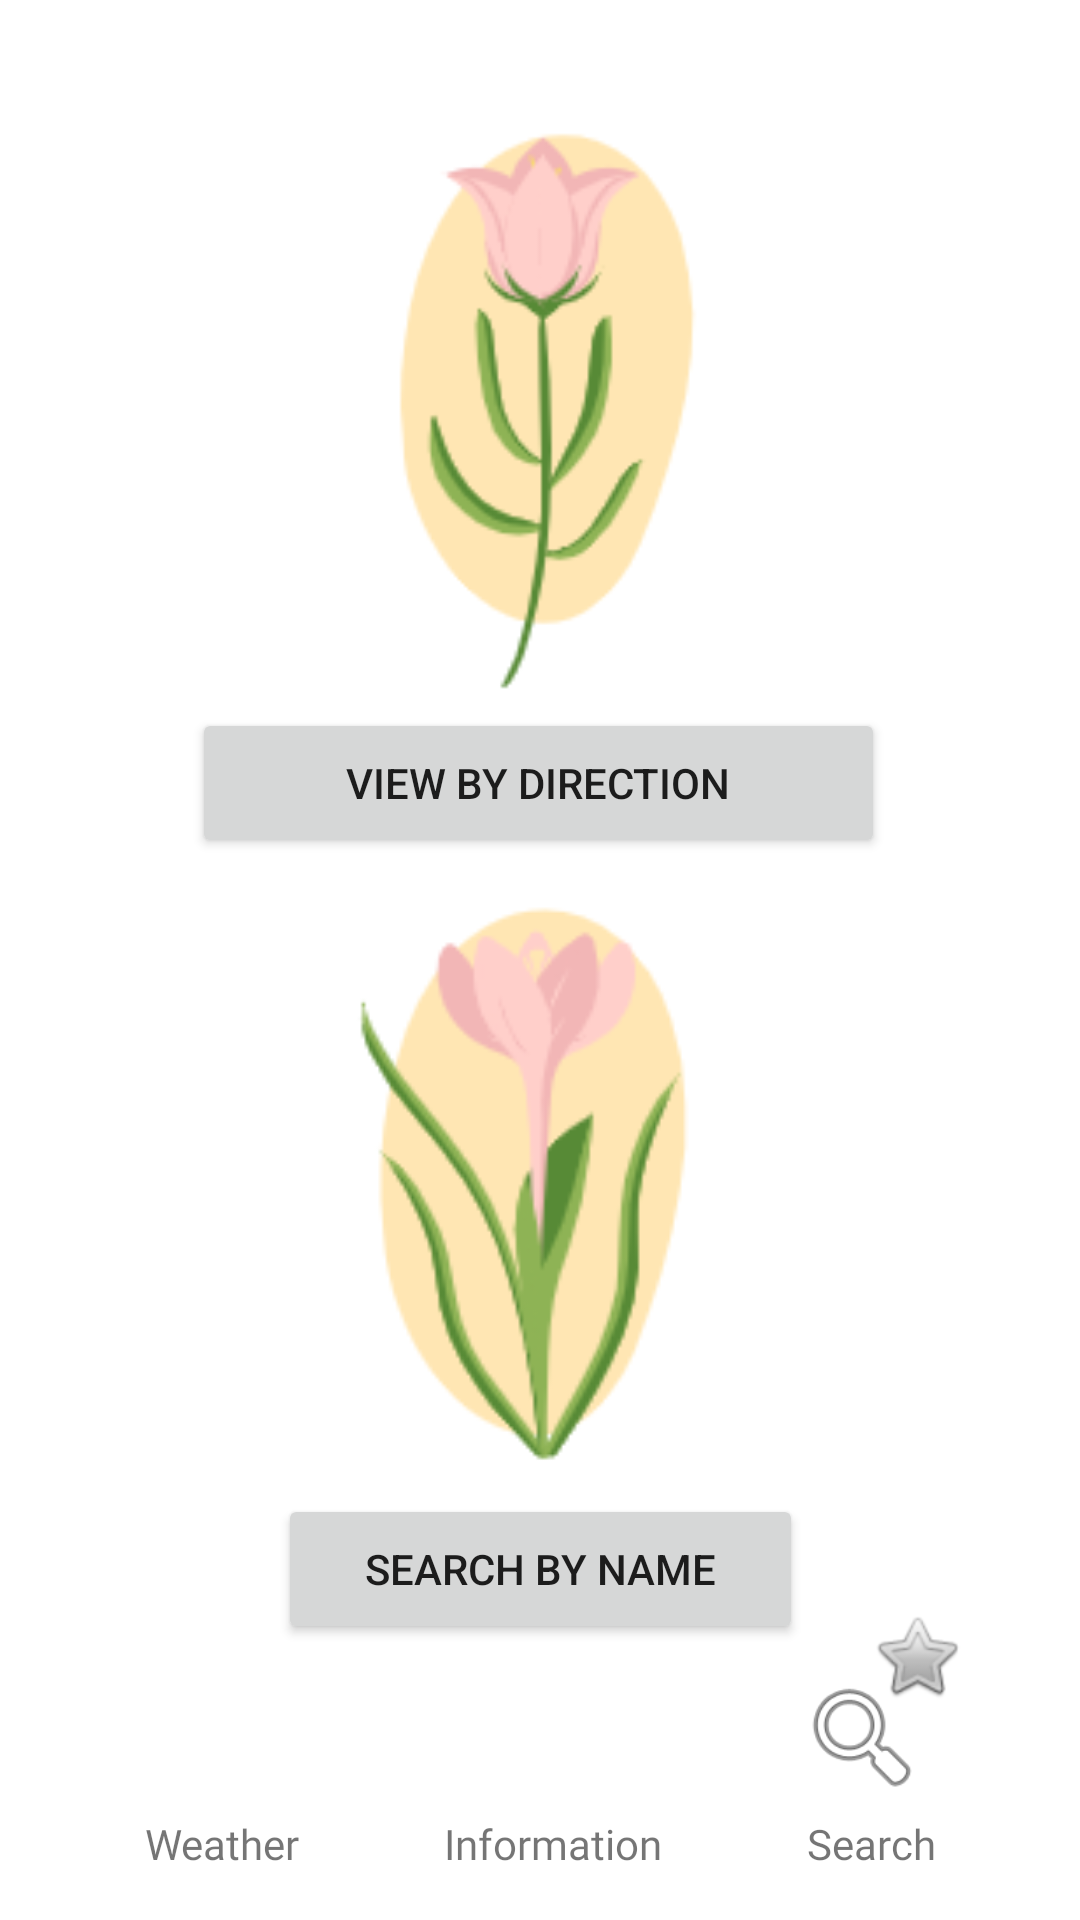

Screen size 1080w x 1920h. Icon name, then its center in pixels as [x,y]:
star: [918,1657]
